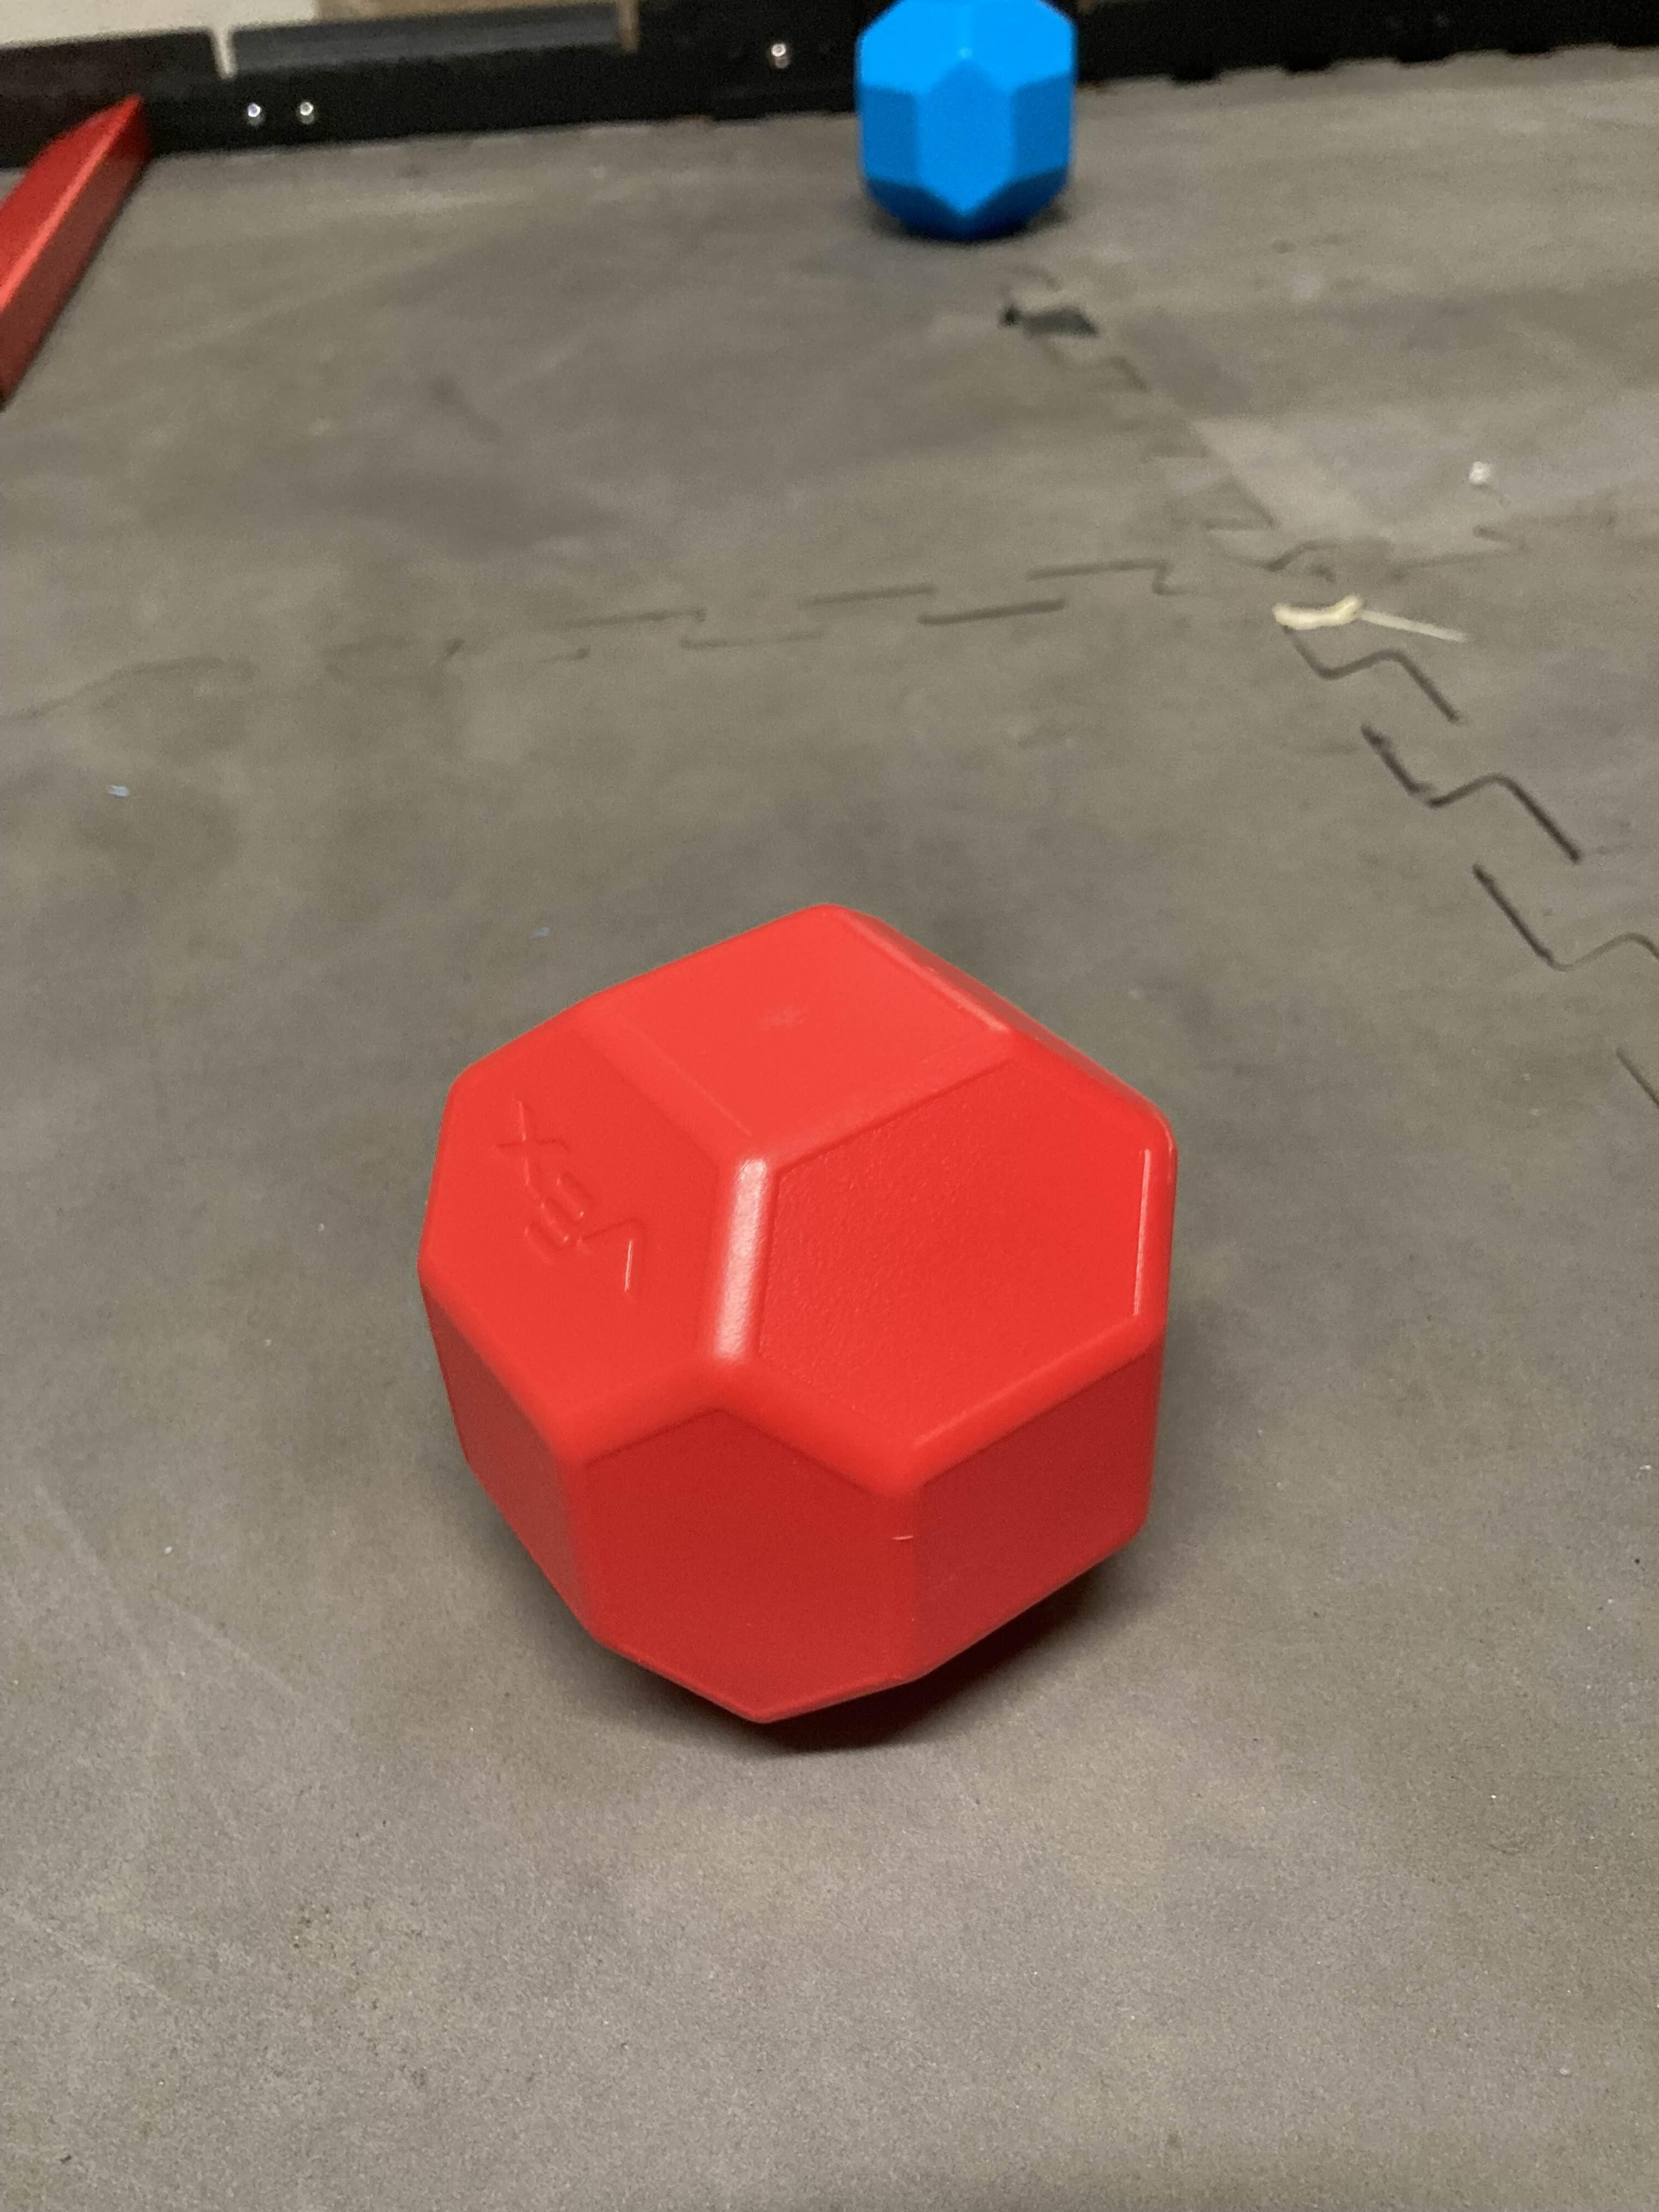Vex-Pieces-BLUE: (854, 0, 1075, 239)
Vex-Pieces-RED: (416, 906, 1178, 1740)
